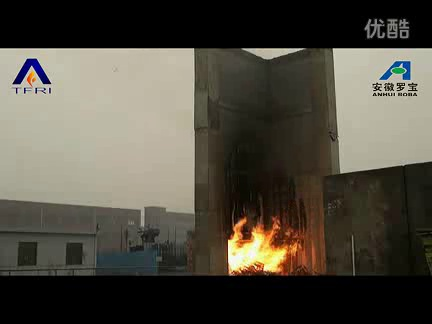fire: (225, 213, 306, 275)
